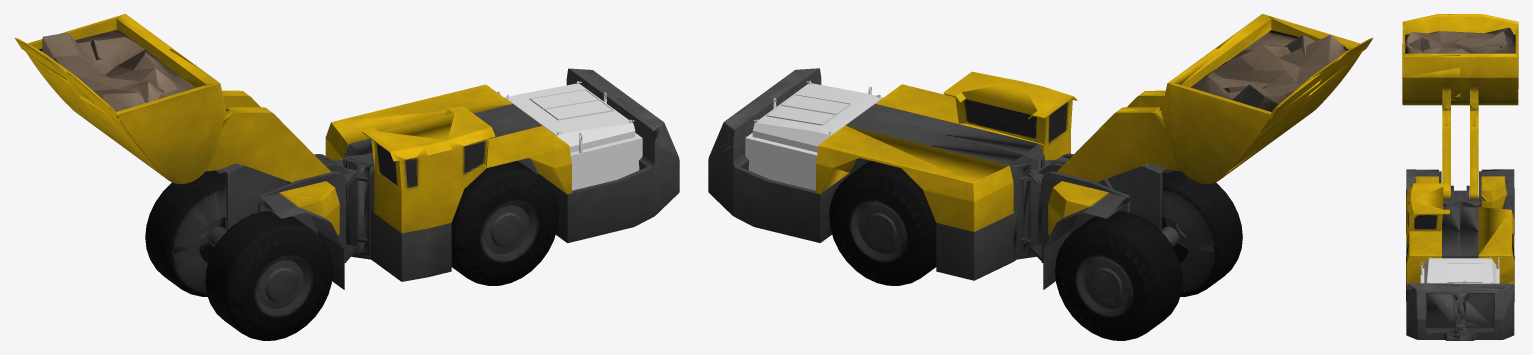
The model's file is scooptram_loading.FBX.
The picture shows the model from 3 angles, left to right: view 1: azimuth 30°, elevation 25°; view 2: azimuth 150°, elevation 25°; view 3: azimuth 270°, elevation 25°; orthographic projection. The views are drawn at different scales.
Visible parts, largest first — view 1: Scooptram_GEO_GRP_002, Battery_005, ScoopTram_Rubble002; view 2: Scooptram_GEO_GRP_002, Battery_005, ScoopTram_Rubble002; view 3: Scooptram_GEO_GRP_002, ScoopTram_Rubble002, Battery_005.
Part boxes in pixels (x1,y1,x2,y2): Scooptram_GEO_GRP_002: (15, 14, 679, 340); Battery_005: (497, 81, 642, 190); ScoopTram_Rubble002: (39, 30, 195, 111); Scooptram_GEO_GRP_002: (708, 14, 1373, 340); Battery_005: (745, 80, 883, 190); ScoopTram_Rubble002: (1190, 30, 1348, 111); Scooptram_GEO_GRP_002: (1402, 14, 1518, 340); ScoopTram_Rubble002: (1405, 27, 1515, 53); Battery_005: (1420, 257, 1499, 283).
Size of the model in its own units: 1.46 by 0.6805 by 0.4019.
